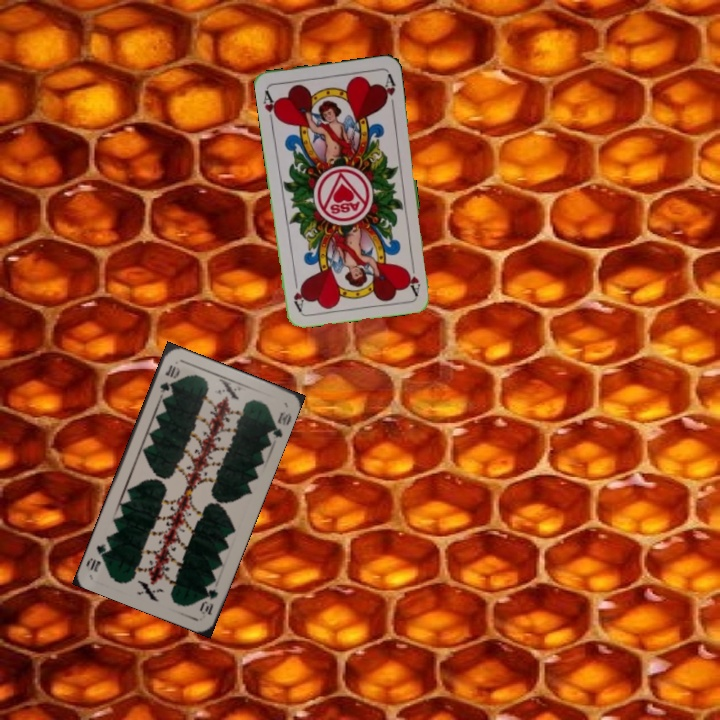G10: (156, 361, 181, 395), (195, 585, 221, 617)
HA: (259, 86, 282, 126), (403, 256, 423, 297)
